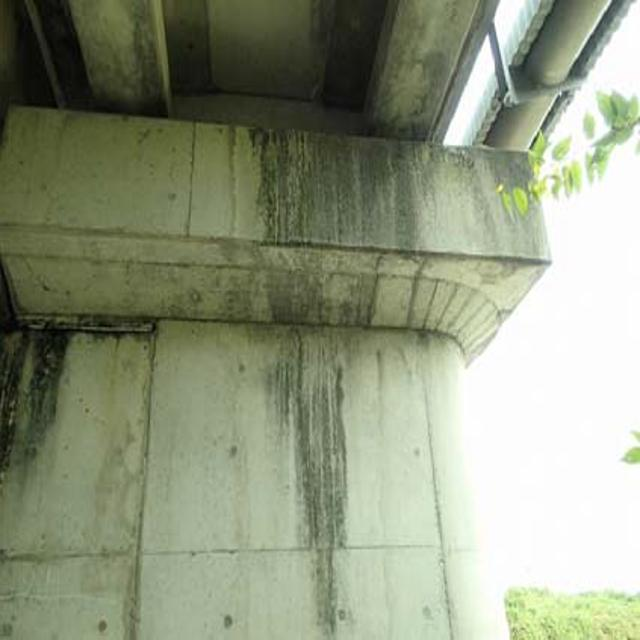leakage: (255, 128, 546, 258)
